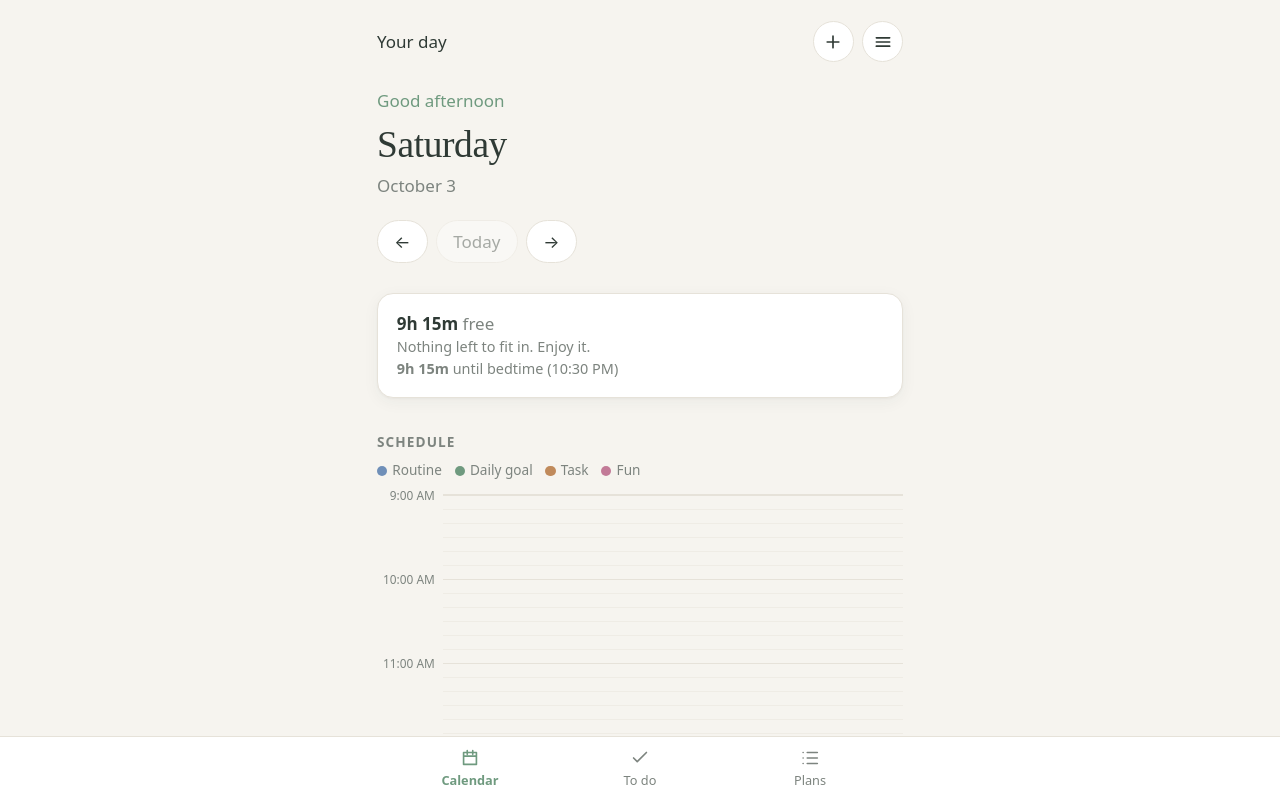
Planner day view › shows how long until bedtime today, and not on other days
This screenshot has width=1280, height=800.
Expected: the heading "Saturday" is shown, [377,124,507,165]
Expected: the element named "Time today" shows "9h 15m until bedtime (10:30 PM)", [377,293,903,398]
Step 1. Click the button named "Next day" → (551, 242), box [526,220,576,263]
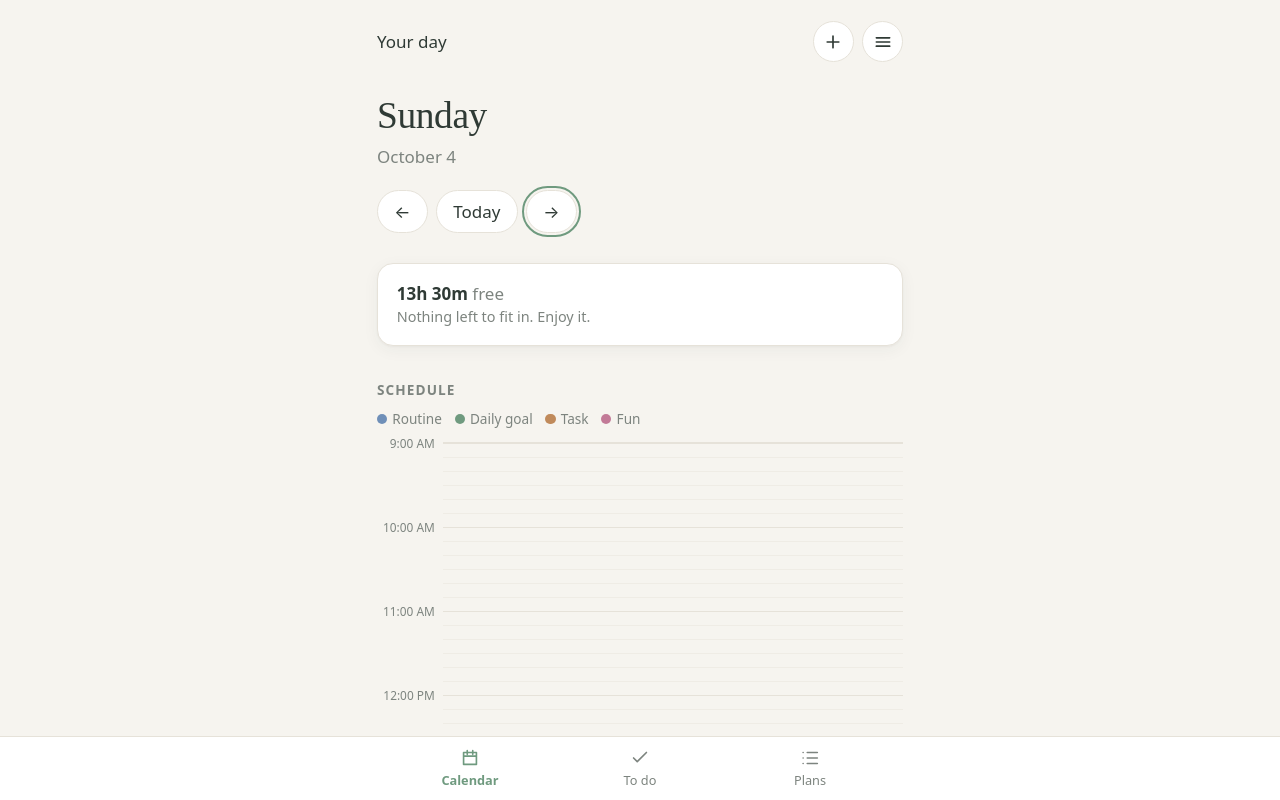
Expected: the element named "Time today" no longer shows "until bedtime", [377,263,903,346]
